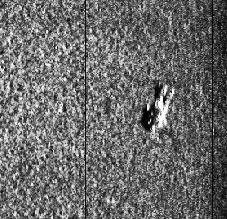man: (144, 82, 176, 145)
